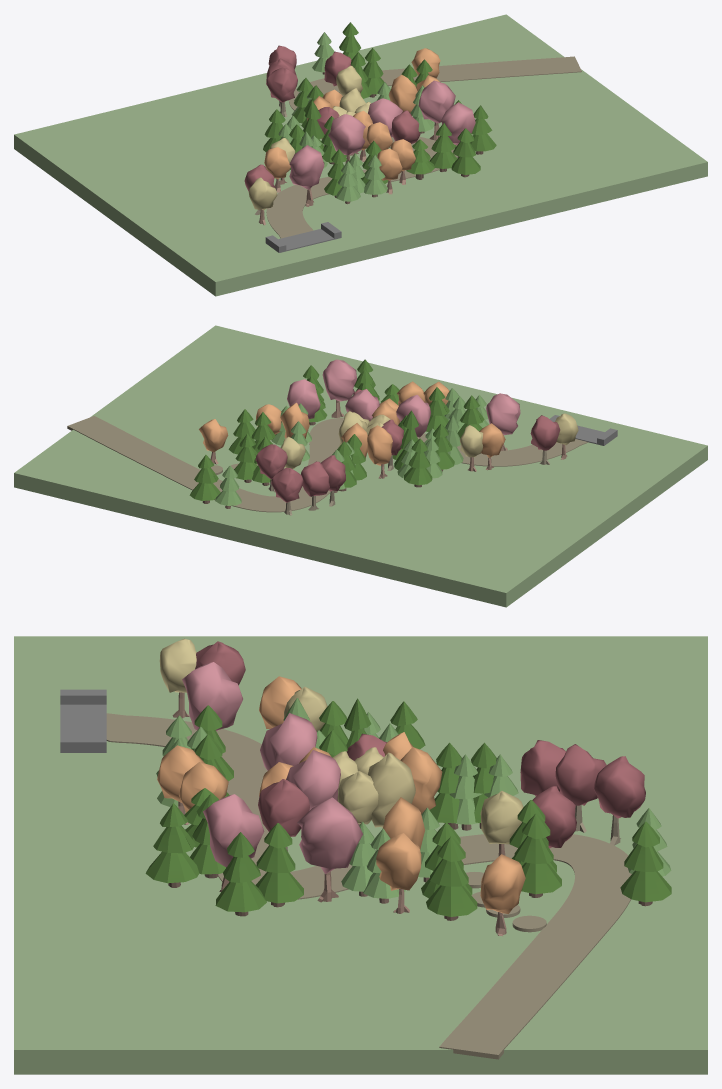
The model's file is Forest_Track.fbx.
3 renders of one model, top to bottom at view 1: azimuth 30°, elevation 25°; view 2: azimuth 150°, elevation 25°; view 3: azimuth 270°, elevation 25°, orthographic. The views are drawn at different scales.
Visible parts, largest first — view 1: pCube3, pCube1 (×9), pCube2, pCylinder1 (×3), pCube9, Tree7:pCube1, pCube4, pCylinder54, pCylinder57, pCylinder16, Tree6:pCube1, pCube10 (+10 smaller); view 2: pCube3, pCube2, pCube1 (×6), pCylinder1 (×4), pCube4, pCube9, pCylinder46, pCube18, pCylinder22, pCube8, Tree7:pCube1, pCube6 (+13 smaller); view 3: pCube3, pCube2, pCube1 (×8), pCylinder1 (×4), pCube9, pCube4, pCylinder54, pCylinder46, pCylinder39, pCylinder16, pCylinder7, pCube8 (+24 smaller).
Part boxes in pixels (x1=…): pCube3: x1=14, y1=14, x2=707, y2=296; pCube1 (×9): x1=265, y1=66, x2=455, y2=252; pCube2: x1=266, y1=56, x2=581, y2=238; pCylinder1 (×3): x1=324, y1=139, x2=434, y2=201; pCube9: x1=289, y1=145, x2=324, y2=189; Tree7:pCube1: x1=328, y1=114, x2=365, y2=154; pCube4: x1=441, y1=102, x2=475, y2=145; pCylinder54: x1=451, y1=128, x2=480, y2=174; pCylinder57: x1=429, y1=123, x2=457, y2=168; pCylinder16: x1=470, y1=105, x2=496, y2=151; Tree6:pCube1: x1=248, y1=177, x2=277, y2=210; pCube10: x1=264, y1=147, x2=290, y2=178; pCube3: x1=14, y1=325, x2=707, y2=607; pCube2: x1=67, y1=416, x2=588, y2=512; pCube1 (×6): x1=280, y1=379, x2=617, y2=491; pCylinder1 (×4): x1=347, y1=395, x2=484, y2=480; pCube4: x1=322, y1=359, x2=356, y2=401; pCube9: x1=486, y1=393, x2=520, y2=435; pCylinder46: x1=189, y1=454, x2=220, y2=500; pCube18: x1=367, y1=425, x2=392, y2=465; pCylinder22: x1=404, y1=438, x2=432, y2=485; pCube8: x1=271, y1=467, x2=303, y2=502; Tree7:pCube1: x1=396, y1=394, x2=430, y2=437; pCube6: x1=301, y1=461, x2=329, y2=496; pCube3: x1=14, y1=636, x2=707, y2=1074; pCube2: x1=106, y1=713, x2=631, y2=1059; pCube1 (×8): x1=60, y1=689, x2=565, y2=874; pCylinder1 (×4): x1=191, y1=701, x2=482, y2=824; pCube9: x1=182, y1=662, x2=242, y2=730; pCube4: x1=203, y1=794, x2=264, y2=866; pCylinder54: x1=145, y1=803, x2=199, y2=883; pCylinder46: x1=620, y1=821, x2=671, y2=902; pCylinder39: x1=426, y1=836, x2=477, y2=916; pCylinder16: x1=215, y1=832, x2=266, y2=912; pCylinder7: x1=255, y1=823, x2=303, y2=903; pCube8: x1=593, y1=756, x2=645, y2=818.
Bounding box in the file's own units: 213 × 30.23 × 149.
